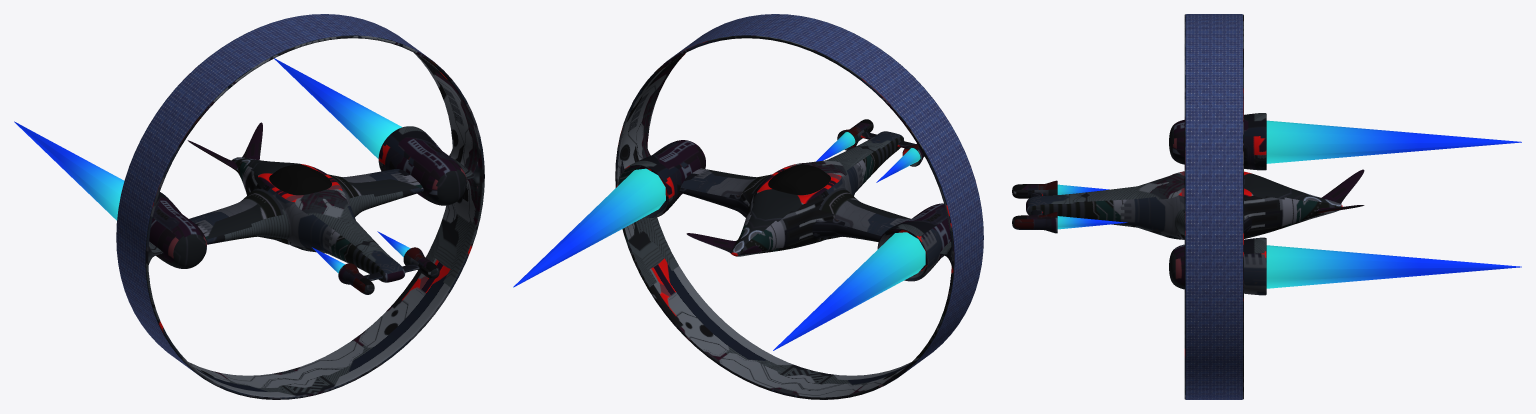
The model's file is ship_compressed.glb.
3 renders of one model, left to right at view 1: azimuth 30°, elevation 25°; view 2: azimuth 150°, elevation 25°; view 3: azimuth 270°, elevation 25°, orthographic.
Parts seen in each view (by area): view 1: Circle, Circle.004, Circle.005, Circle.001, Circle.003; view 2: Circle, Circle.004, Circle.005, Circle.001, Circle.003, Circle.002, Circle.006; view 3: Circle.004, Circle, Circle.005, Circle.001, Circle.006.
Boxes of the visible parts, left/top/right/bottom form: Circle: left=116, top=23, right=484, bottom=399; Circle.004: left=116, top=14, right=443, bottom=384; Circle.005: left=274, top=58, right=401, bottom=158; Circle.001: left=14, top=121, right=124, bottom=220; Circle.003: left=269, top=164, right=331, bottom=194; Circle: left=615, top=14, right=983, bottom=399; Circle.004: left=657, top=14, right=983, bottom=378; Circle.005: left=513, top=168, right=665, bottom=287; Circle.001: left=773, top=232, right=925, bottom=350; Circle.003: left=768, top=164, right=830, bottom=194; Circle.002: left=876, top=148, right=920, bottom=182; Circle.006: left=816, top=132, right=855, bottom=161; Circle.004: left=1185, top=14, right=1242, bottom=399; Circle: left=1012, top=14, right=1364, bottom=399; Circle.005: left=1266, top=245, right=1521, bottom=288; Circle.001: left=1266, top=120, right=1521, bottom=163; Circle.006: left=1057, top=216, right=1127, bottom=229.
Bounding box in the file's own units: 466 × 466 × 615.
4 materials, 3 textured.
